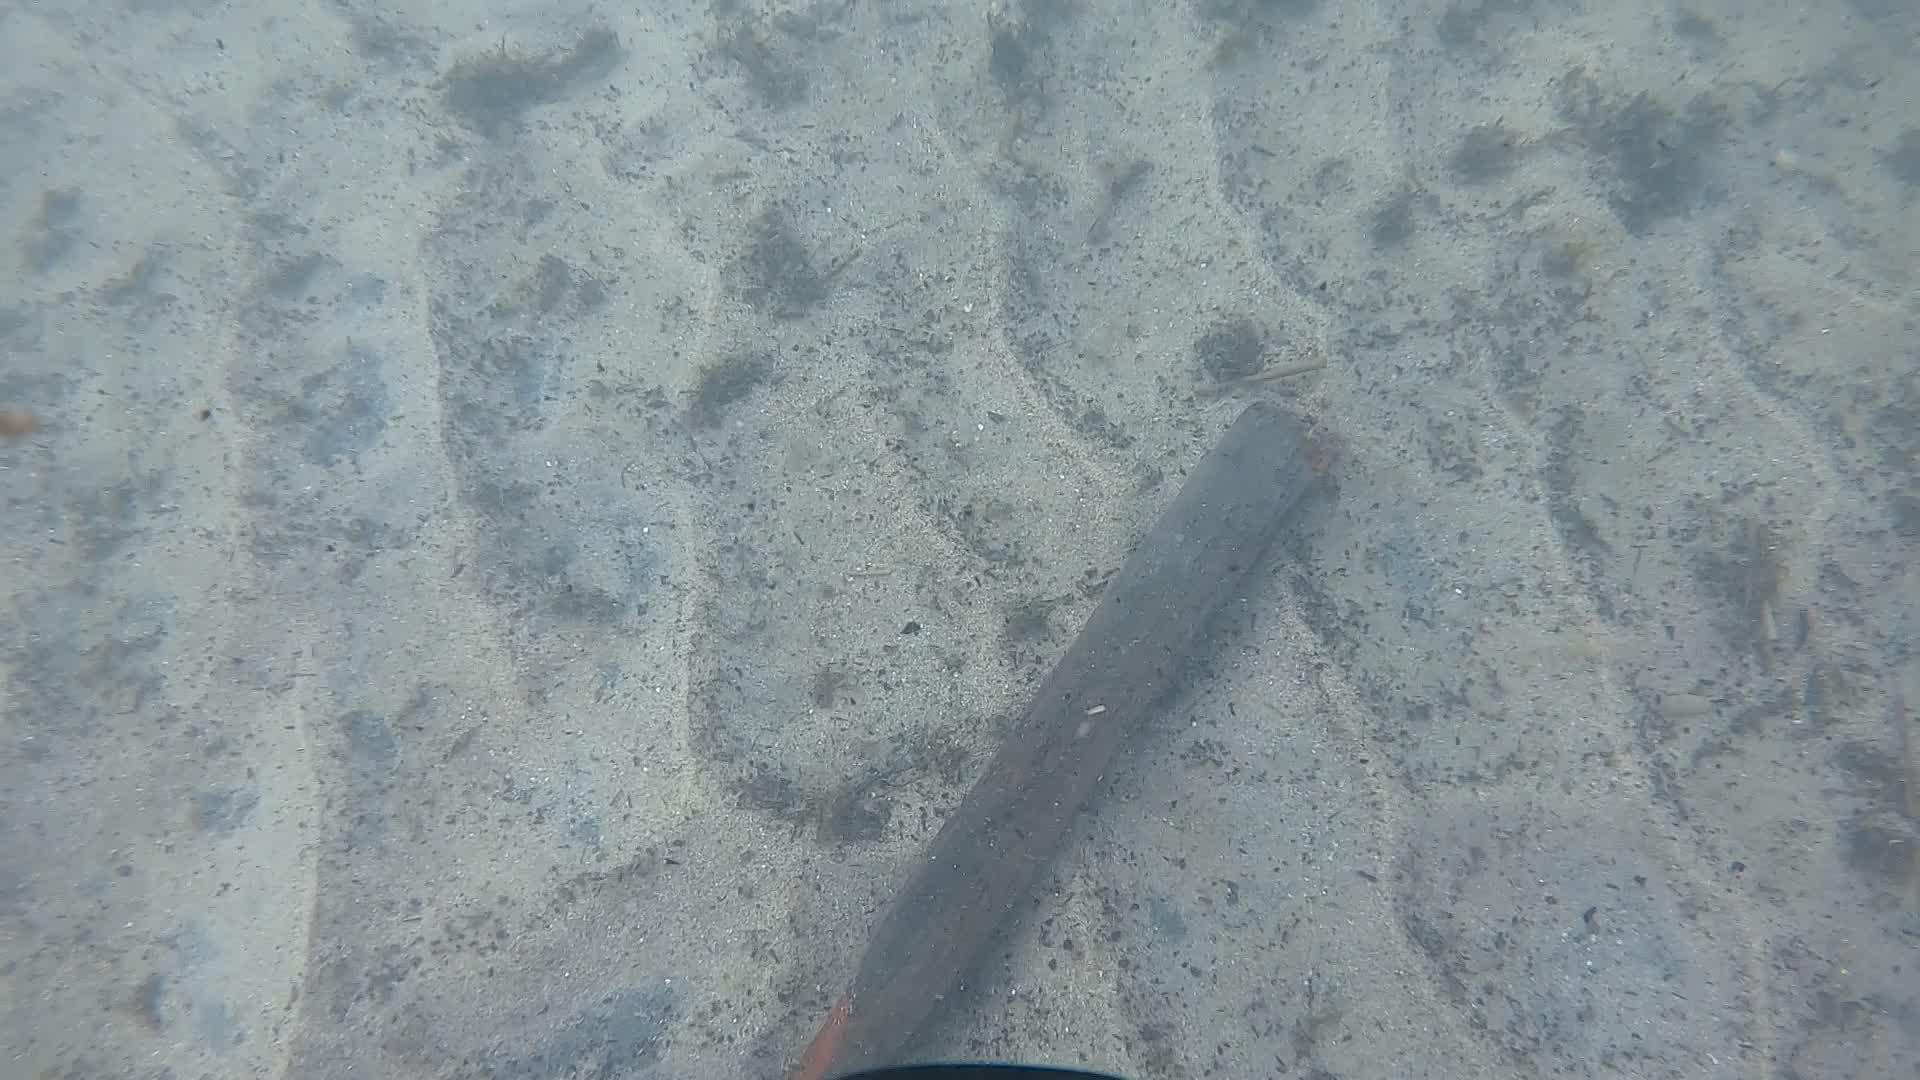wood: (787, 402, 1342, 1080)
